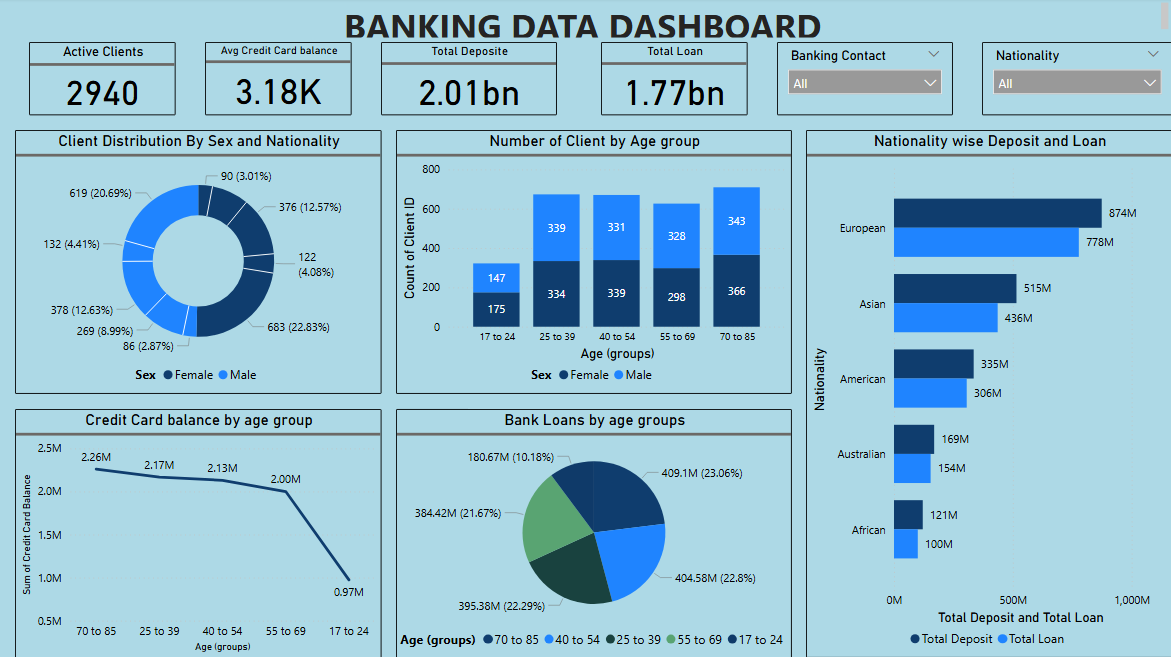

This screenshot's page, from the dashboard's own definition file:
{"tool":"powerbi","page":{"name":"Page 1","canvas":[1280,720],"ordinal":0},"visuals":[{"type":"card","title":"Active Clients","fields":{"Values":["banking Data (1).Active clients"]},"box":[32,48,160,80],"z":0},{"type":"card","title":"Avg Credit Card balance","fields":{"Values":["banking Data (1).Avg Credit Card Balance"]},"box":[224,48,160,80],"z":1000},{"type":"card","title":"Total Deposite","fields":{"Values":["banking Data (1).Total Deposit"]},"box":[416,48,192,80],"z":2000},{"type":"card","title":"Total Loan","fields":{"Values":["banking Data (1).Total Loan"]},"box":[656,48,160,80],"z":3000},{"type":"donutChart","title":"Client Distribution By Sex and  Nationality","fields":{"Category":["banking Data (1).Sex"],"Y":["Count(banking Data (1).Client ID)"],"Series":["banking Data (1).Nationality"]},"box":[16,144,400,288],"z":4000},{"type":"columnChart","title":"Number of Client by Age group","fields":{"Series":["banking Data (1).Sex"],"Y":["CountNonNull(banking Data (1).Client ID)"],"Category":["banking Data (1).Age (groups)"]},"box":[432,144,432,288],"z":5000},{"type":"clusteredBarChart","title":"Nationality wise Deposit and Loan","fields":{"Category":["banking Data (1).Nationality"],"Y":["banking Data (1).Total Deposit","banking Data (1).Total Loan"]},"box":[880,144,400,576],"z":6000},{"type":"lineChart","title":"Credit Card balance by age group","fields":{"Y":["Sum(banking Data (1).Credit Card Balance)"],"Category":["banking Data (1).Age (groups)"]},"box":[16,448,400,272],"z":7000},{"type":"textbox","box":[0,0,1272,48],"z":8000},{"type":"pieChart","title":"Bank Loans by age groups","fields":{"Category":["banking Data (1).Age (groups)"],"Y":["Sum(banking Data (1).Bank Loans)"]},"box":[432,448,432,272],"z":9000},{"type":"slicer","fields":{"Values":["banking Data (1).Banking Contact"]},"box":[848,48,192,80],"z":10000},{"type":"slicer","fields":{"Values":["banking Data (1).Nationality"]},"box":[1072,48,208,80],"z":11000}]}

Visuals, with their boxes in screenshot pixels (x1, y1, x2, y2), scaled from the page's 1280x720 canvas onto the 1171x657 screenshot:
"Active Clients" card: 29/44/176/117
"Avg Credit Card balance" card: 205/44/351/117
"Total Deposite" card: 381/44/556/117
"Total Loan" card: 600/44/747/117
"Client Distribution By Sex and  Nationality" donutChart: 15/131/381/394
"Number of Client by Age group" columnChart: 395/131/790/394
"Nationality wise Deposit and Loan" clusteredBarChart: 805/131/1170/656
"Credit Card balance by age group" lineChart: 15/409/381/656
textbox: 0/0/1164/44
"Bank Loans by age groups" pieChart: 395/409/790/656
slicer - banking Data (1).Banking Contact: 776/44/951/117
slicer - banking Data (1).Nationality: 981/44/1170/117
